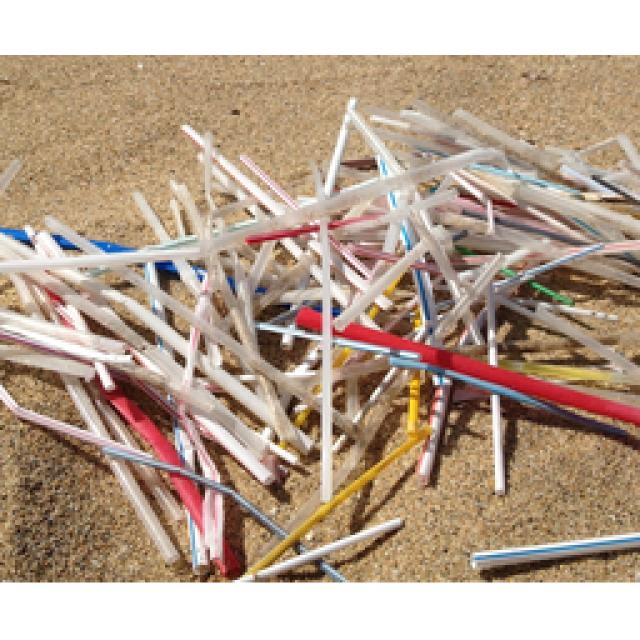plastic: (0, 93, 638, 575), (258, 300, 638, 472)
